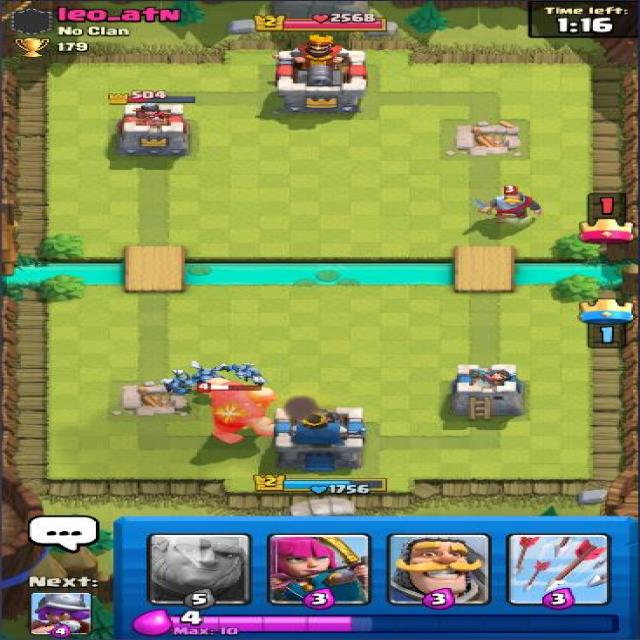Enemy-Giant: (197, 377, 279, 447)
Enemy-Knight: (467, 183, 544, 224)
Player-Minion: (215, 358, 272, 388), (183, 359, 234, 388), (159, 367, 202, 397)
